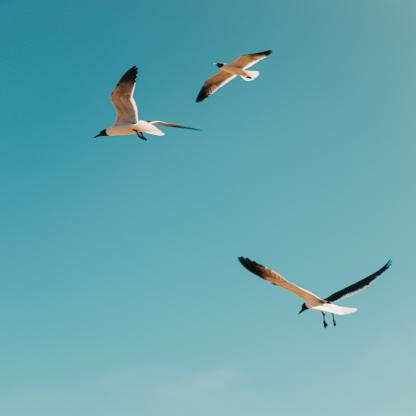bird: (237, 255, 392, 328), (93, 66, 202, 141), (197, 49, 273, 102)
